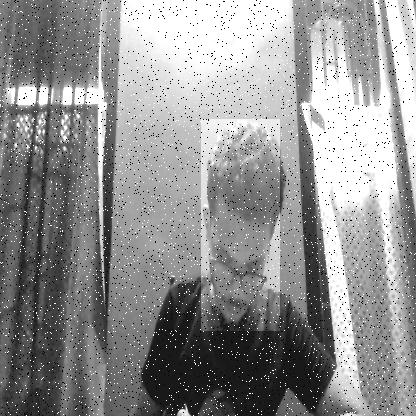Normal: (201, 120, 280, 332)
